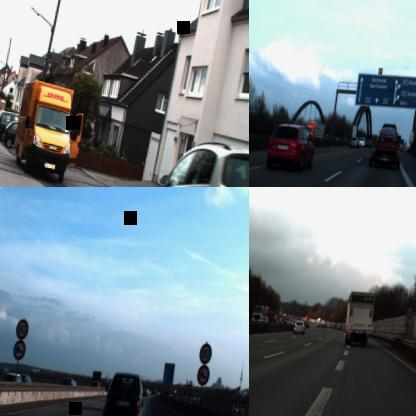no overtaking: (195, 363, 210, 386), (12, 338, 26, 361)
speed limit 80: (14, 318, 30, 340), (198, 342, 212, 364), (404, 305, 413, 318)
